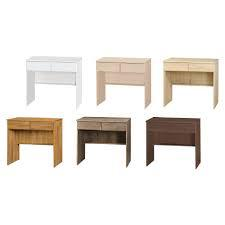desk: (3, 31, 219, 171)
